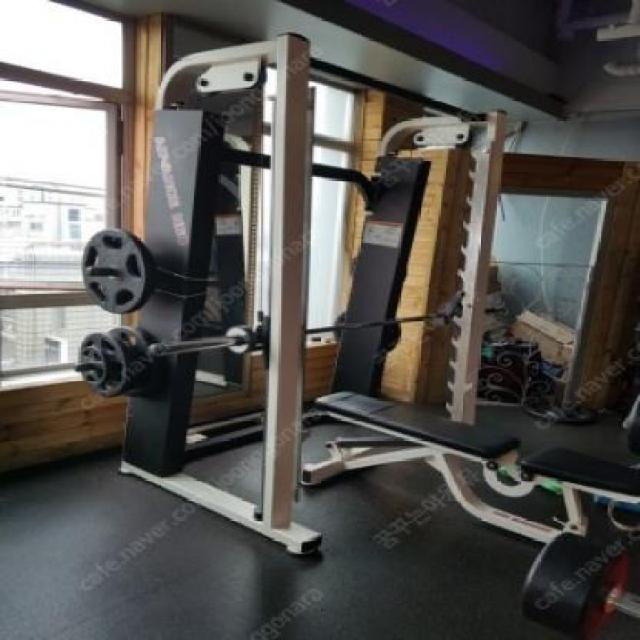smith machine: (80, 34, 511, 563)
